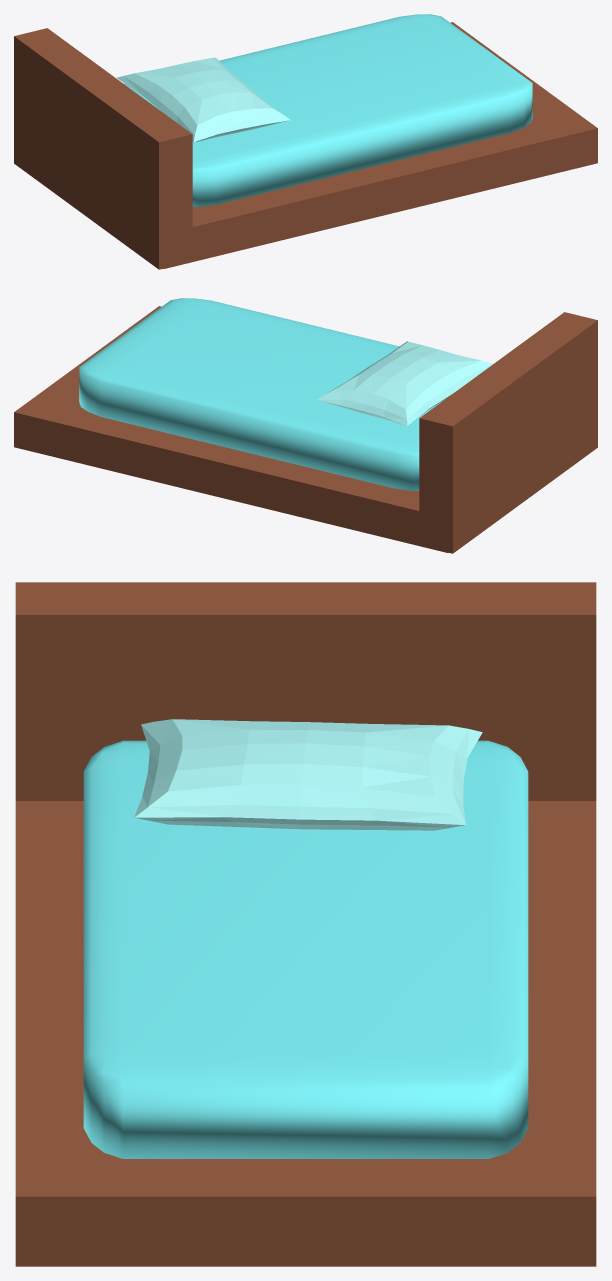
Rendered from bed.glb.
3 views of the same model, one above another, from view 1: azimuth 30°, elevation 25°; view 2: azimuth 150°, elevation 25°; view 3: azimuth 270°, elevation 25° (orthographic). The views are drawn at different scales.
Parts seen in each view (by area): view 1: Cube, Cube.003, Cube.001, pillow; view 2: Cube, Cube.003, Cube.001, pillow; view 3: Cube, Cube.001, Cube.003, pillow.
Boxes of the visible parts, bbox=[...] form: Cube: bbox=[124, 14, 532, 206]; Cube.003: bbox=[14, 28, 192, 269]; Cube.001: bbox=[163, 22, 597, 268]; pillow: bbox=[116, 57, 290, 141]; Cube: bbox=[79, 298, 443, 490]; Cube.003: bbox=[419, 312, 597, 553]; Cube.001: bbox=[14, 306, 448, 552]; pillow: bbox=[316, 341, 492, 426]; Cube: bbox=[83, 740, 528, 1158]; Cube.001: bbox=[15, 801, 596, 1266]; Cube.003: bbox=[15, 582, 596, 800]; pillow: bbox=[134, 719, 482, 830].
Size of the model in its own units: 13.78 by 3.84 by 7.89.
